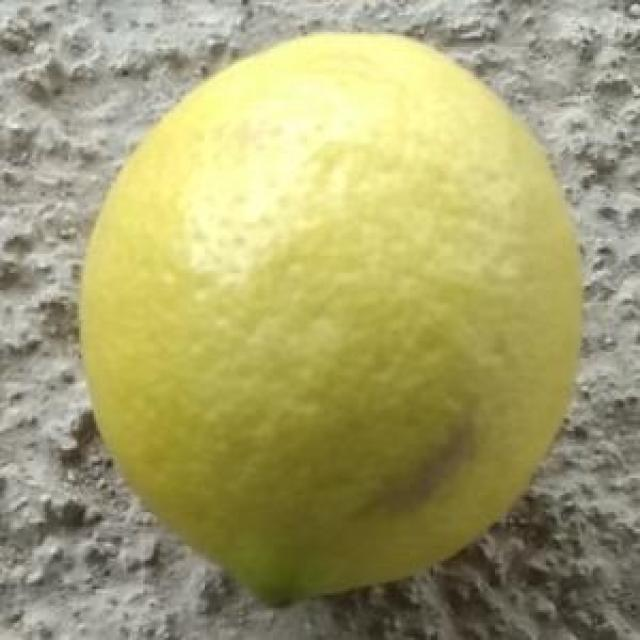lemon: (70, 32, 583, 608)
